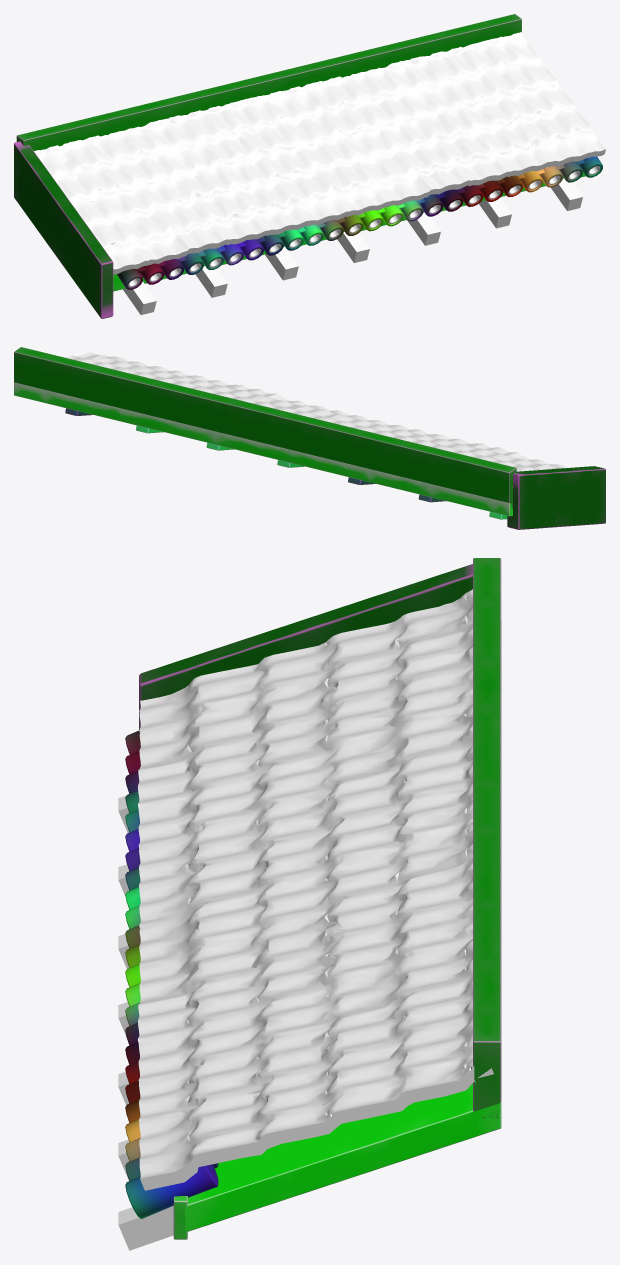
Rendered from overhang_slope_100_01_left.fbx.
3 renders of one model, top to bottom at view 1: azimuth 30°, elevation 25°; view 2: azimuth 150°, elevation 25°; view 3: azimuth 270°, elevation 25°, orthographic. The views are drawn at different scales.
Visible parts, largest first — view 1: overhang_slope_100_01_left; view 2: overhang_slope_100_01_left; view 3: overhang_slope_100_01_left.
Part boxes in pixels (left/top/right/bottom): overhang_slope_100_01_left: left=14, top=14, right=605, bottom=318; overhang_slope_100_01_left: left=14, top=347, right=605, bottom=529; overhang_slope_100_01_left: left=118, top=558, right=501, bottom=1250.
Size of the model in its own units: 4.05 by 0.9122 by 1.34.
